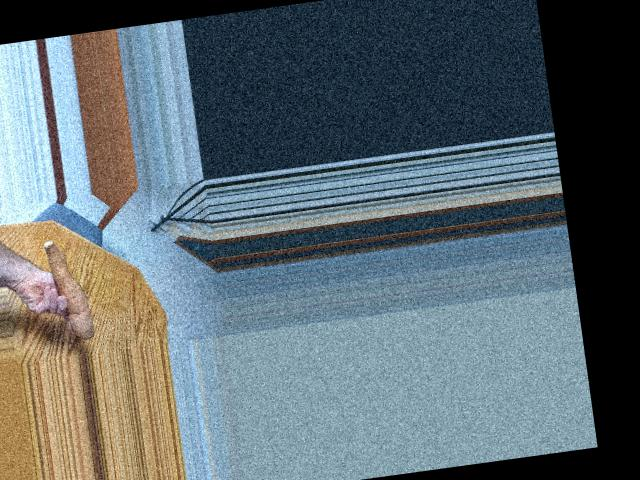sweet_potato: (38, 235, 98, 342)
